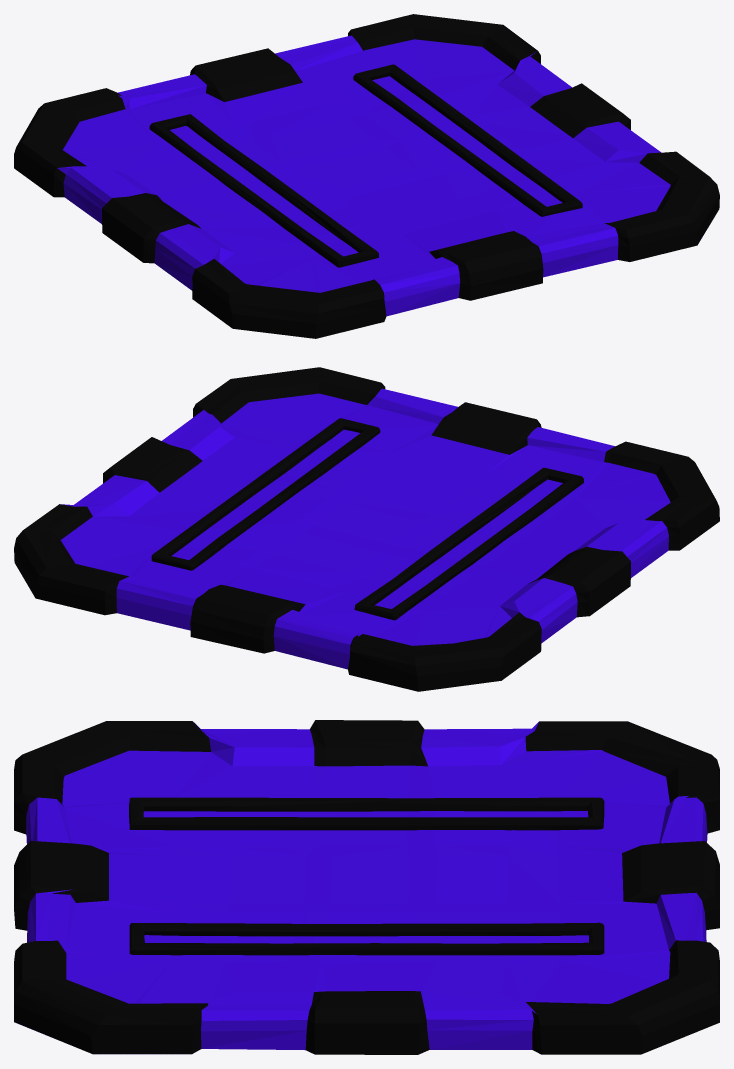
File: spawnpoint.fbx
The picture shows the model from 3 angles, top to bottom: view 1: azimuth 30°, elevation 25°; view 2: azimuth 150°, elevation 25°; view 3: azimuth 270°, elevation 25°; orthographic projection. The views are drawn at different scales.
Visible parts, largest first — view 1: mesh_node.003, mesh_node, mesh_node.001, mesh_node.002; view 2: mesh_node.003, mesh_node, mesh_node.001, mesh_node.002; view 3: mesh_node.003, mesh_node, mesh_node.002, mesh_node.001.
Boxes of the visible parts, x1,y1,x2,y2 form: mesh_node.003: (57,35,701,316); mesh_node: (14,14,719,338); mesh_node.001: (353,64,582,216); mesh_node.002: (149,114,378,267); mesh_node.003: (60,388,670,669); mesh_node: (14,367,719,691); mesh_node.001: (151,418,380,570); mesh_node.002: (354,467,583,620); mesh_node.003: (16,722,707,1054); mesh_node: (14,720,719,1054); mesh_node.002: (129,797,604,830); mesh_node.001: (129,922,604,955).
Size of the model in its own units: 100 by 6.84 by 100.
